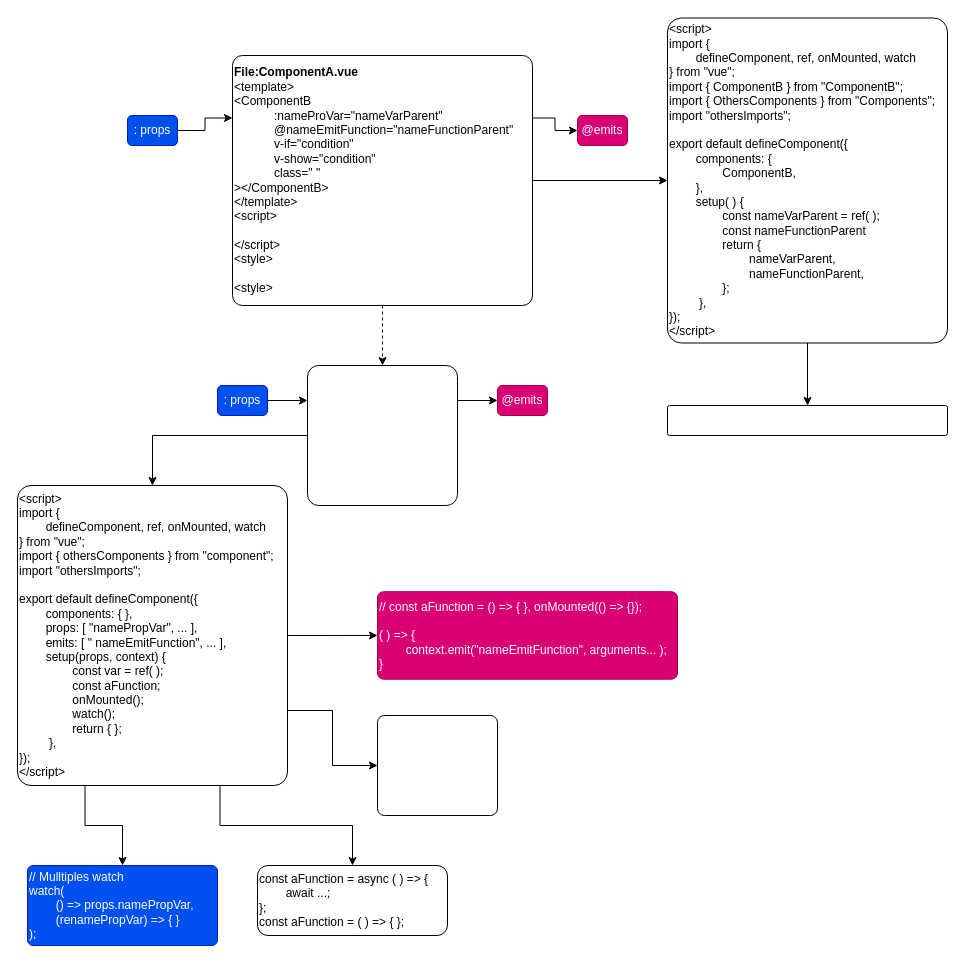
Some shapes in this 965 by 963 pixel diagram are drawn without their labels. Here are the shapes that lost their labels. From the top down, the box of each, then its label:
(306, 364, 458, 506): File: ComponenteB.vue <template> </template> <script> </script> </style>
(666, 404, 948, 436): const nameFunctionParent = (Arguments...) => { };
(376, 714, 498, 816): setup( ) { return { vars, aFunctions, }; }
